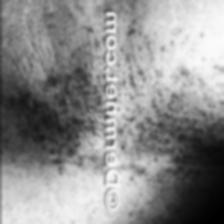Non-Cancerous Skin Condition: (10, 68, 102, 166)
